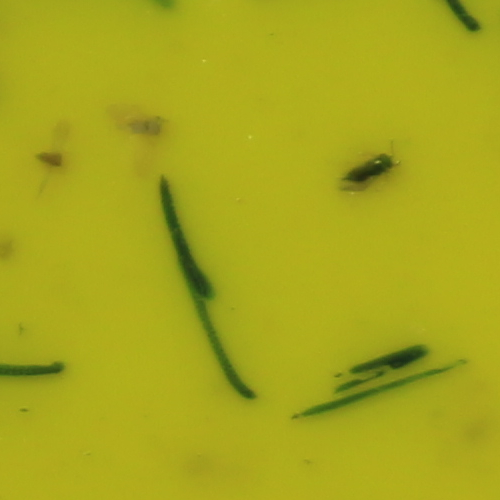Platyobria: (125, 114, 167, 136), (37, 149, 69, 171)
Psyllaephagus: (342, 146, 400, 180)
